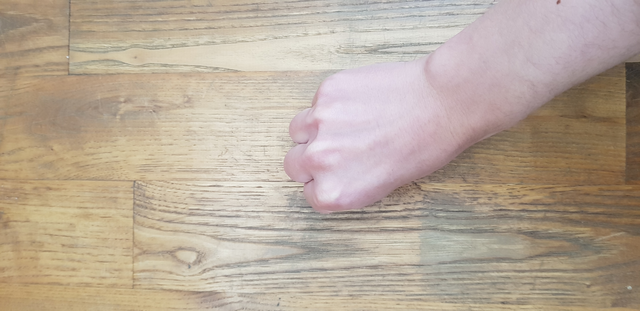Rock: (249, 61, 465, 222)
